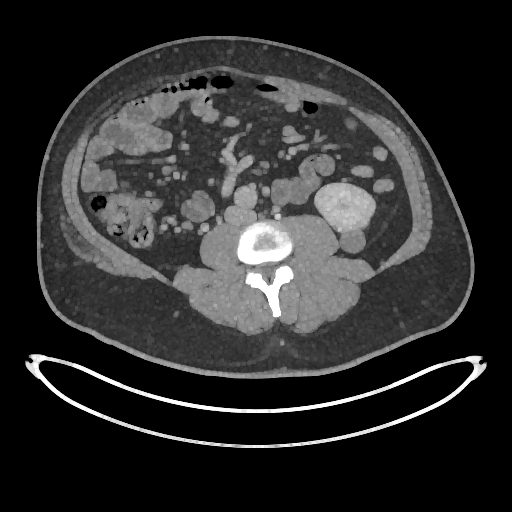Lesion: (335, 225, 369, 258)
